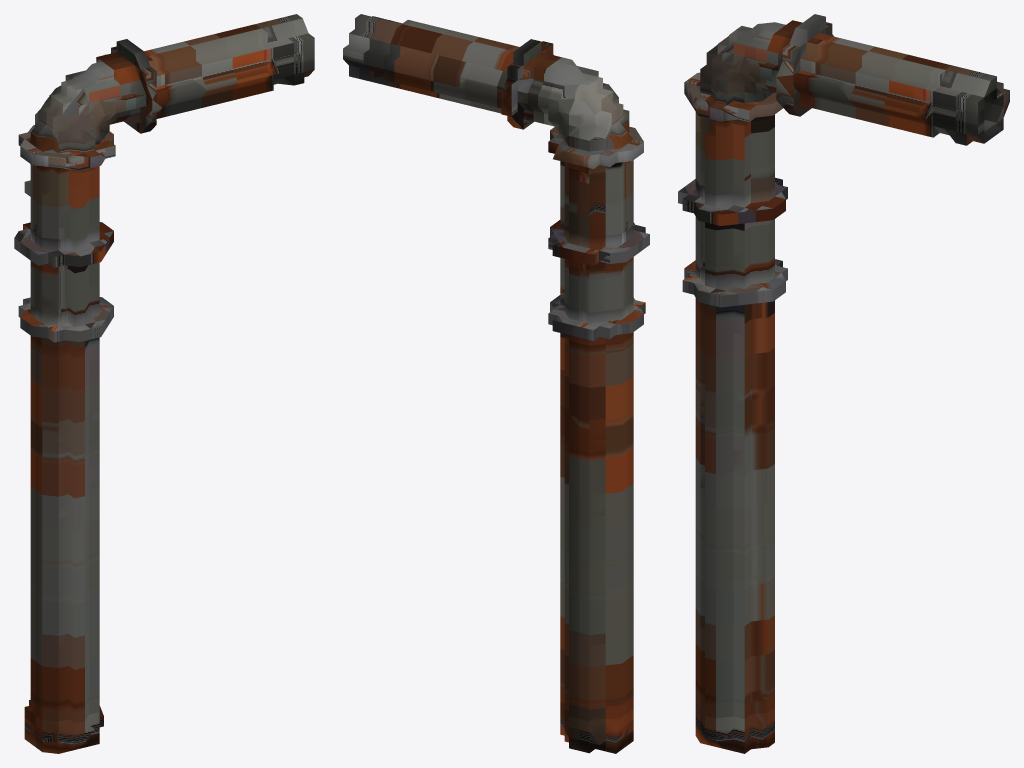
The model's file is simplified_rusty_pipe.glb.
3 views of the same model, side by side, from view 1: azimuth 30°, elevation 25°; view 2: azimuth 150°, elevation 25°; view 3: azimuth 330°, elevation 25° (orthographic). The views are drawn at different scales.
Visible parts, largest first — view 1: Mesh_0; view 2: Mesh_0; view 3: Mesh_0.
Boxes of the visible parts, box(x1,y1,x2,y2) form: Mesh_0: box(14, 14, 314, 753); Mesh_0: box(343, 14, 649, 753); Mesh_0: box(678, 14, 1009, 753).
Size of the model in its own units: 0.8577 by 2 by 0.2541.
1 material, 1 textured.
